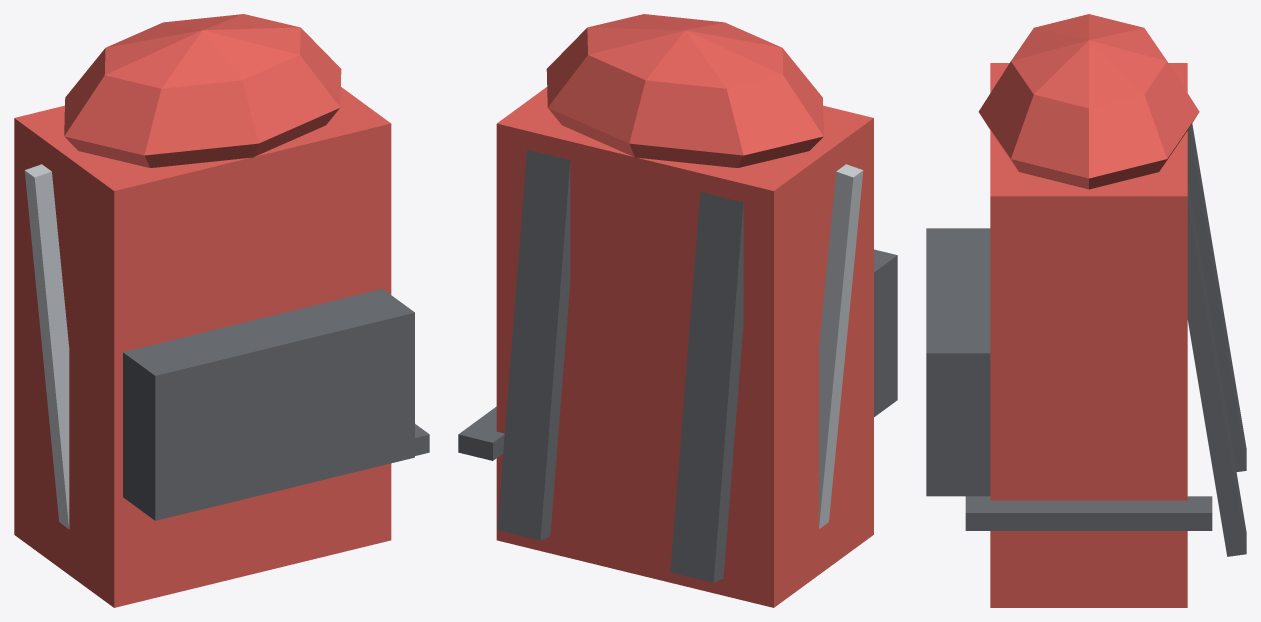
The model's file is SkiBackpack.glb.
3 renders of one model, left to right at view 1: azimuth 30°, elevation 25°; view 2: azimuth 150°, elevation 25°; view 3: azimuth 270°, elevation 25°, orthographic.
Visible parts, largest first — view 1: backpack; view 2: backpack; view 3: backpack.
Boxes of the visible parts, x1,y1,x2,y2 form: backpack: (14,14,429,607); backpack: (458,14,897,607); backpack: (926,14,1246,607).
Bounding box in the file's own units: 0.3899 × 0.56 × 0.3248.
